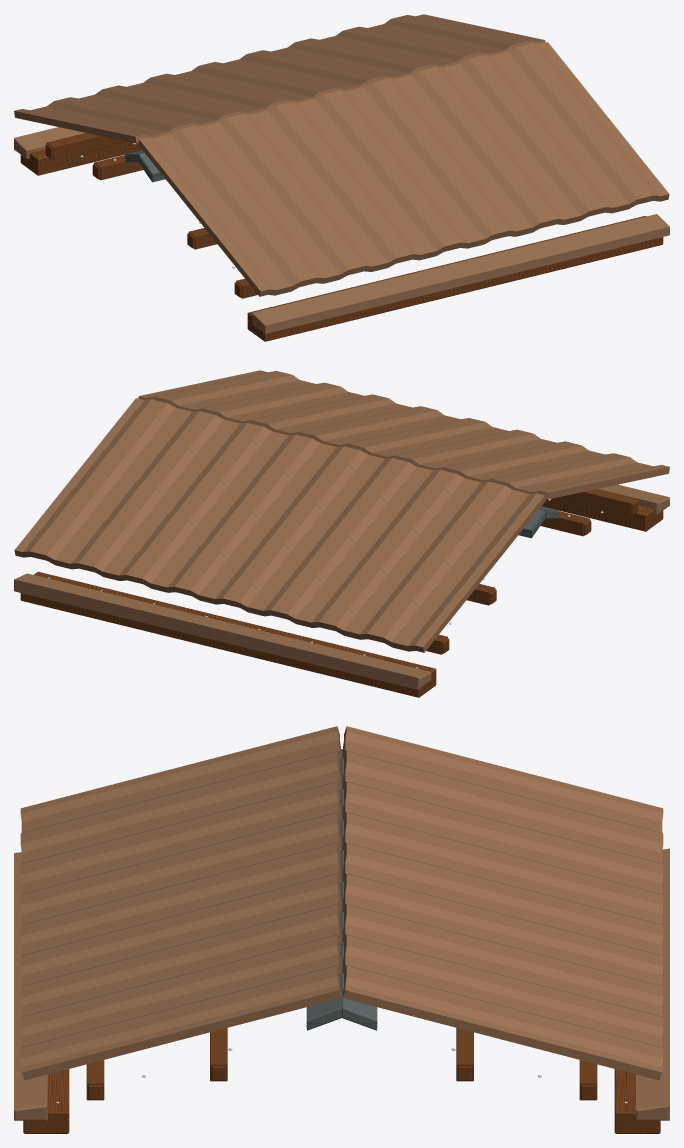
Rendered from roof.glb.
3 views of the same model, one above another, from view 1: azimuth 30°, elevation 25°; view 2: azimuth 150°, elevation 25°; view 3: azimuth 270°, elevation 25° (orthographic). The views are drawn at different scales.
Visible parts, largest first — view 1: roof-slab-pitched; view 2: roof-slab-pitched; view 3: roof-slab-pitched.
Part boxes in pixels (<box>): roof-slab-pitched: <box>14,14,669,341</box>; roof-slab-pitched: <box>14,370,669,697</box>; roof-slab-pitched: <box>14,726,669,1133</box>.
Bounding box in the file's own units: 4 × 1.09 × 4.26.
4 materials, 2 textured.
